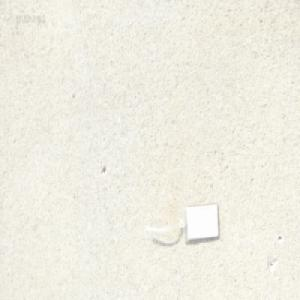LuggageTag: (144, 200, 219, 243)
